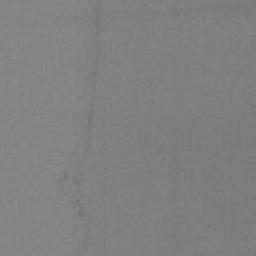Water spot: (70, 0, 104, 256)
